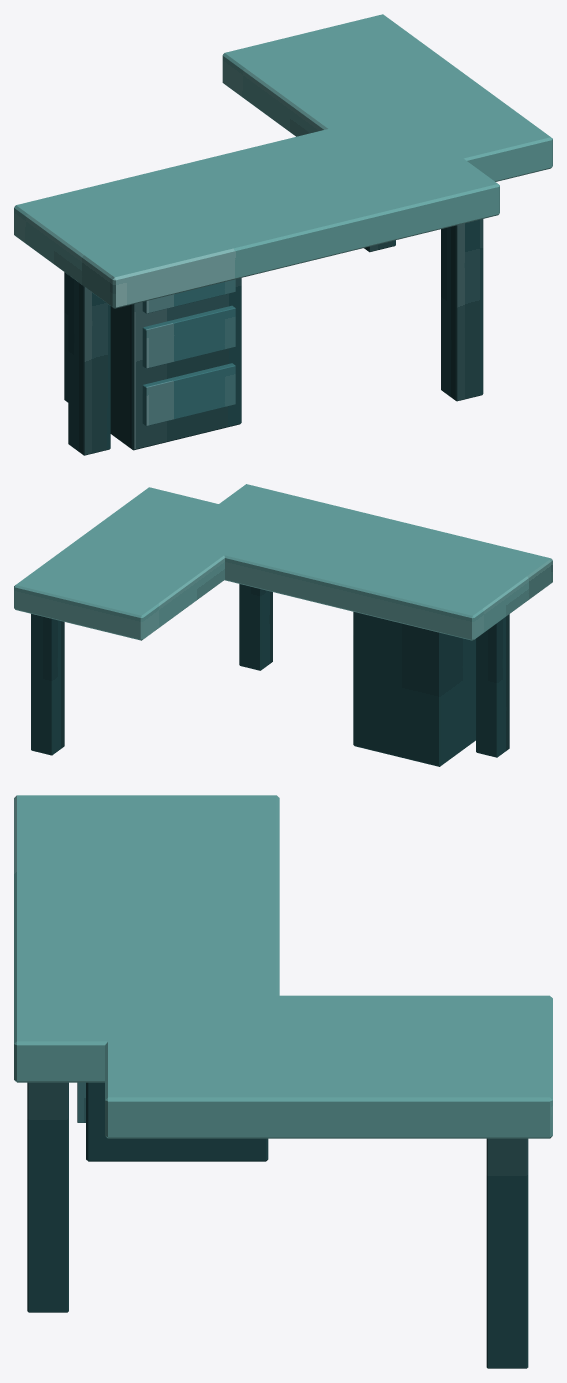
The model's file is office_corner_workstation_teal.glb.
3 views of the same model, one above another, from view 1: azimuth 30°, elevation 25°; view 2: azimuth 150°, elevation 25°; view 3: azimuth 270°, elevation 25° (orthographic). The views are drawn at different scales.
Visible parts, largest first — view 1: MainTop, ReturnTop, DrawerPedestal, DeskLeg_0.42_-0.26, DeskLeg_-0.92_0, Drawer_0, Drawer_1, Drawer_2; view 2: MainTop, ReturnTop, DrawerPedestal, DeskLeg_0.77_0.95, DeskLeg_-0.92_0, DeskLeg_0.42_-0.26; view 3: MainTop, ReturnTop, DeskLeg_0.77_0.95, DeskLeg_0.42_-0.26, DrawerPedestal.
Part boxes in pixels (<box>): MainTop: <box>14,113,499,308</box>; ReturnTop: <box>222,14,552,181</box>; DrawerPedestal: <box>64,272,241,450</box>; DeskLeg_0.42_-0.26: <box>441,219,483,401</box>; DeskLeg_-0.92_0: <box>68,275,110,455</box>; Drawer_0: <box>142,363,235,426</box>; Drawer_1: <box>142,305,235,368</box>; Drawer_2: <box>142,279,235,313</box>; MainTop: <box>168,484,552,640</box>; ReturnTop: <box>14,487,274,640</box>; DrawerPedestal: <box>353,612,475,766</box>; DeskLeg_0.77_0.95: <box>31,614,64,755</box>; DeskLeg_-0.92_0: <box>476,614,509,757</box>; DeskLeg_0.42_-0.26: <box>239,584,272,670</box>; MainTop: <box>14,795,279,1082</box>; ReturnTop: <box>105,995,552,1138</box>; DeskLeg_0.77_0.95: <box>486,1138,528,1368</box>; DeskLeg_0.42_-0.26: <box>27,1082,68,1312</box>; DrawerPedestal: <box>86,1082,268,1161</box>.
Bounding box in the file's own units: 1.9 × 0.81 × 1.42.
Materials: 1 (1 with a texture image).
